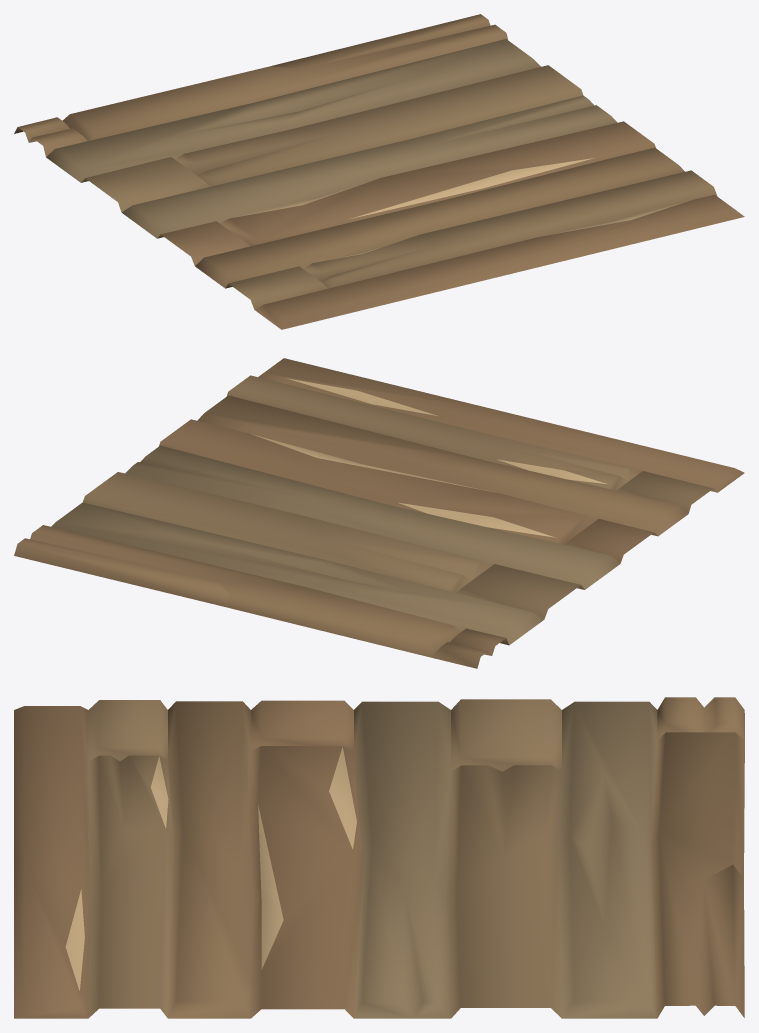
Rendered from rpgpp_ag_floor_02b_3x3.fbx.
3 views of the same model, one above another, from view 1: azimuth 30°, elevation 25°; view 2: azimuth 150°, elevation 25°; view 3: azimuth 270°, elevation 25° (orthographic). The views are drawn at different scales.
Parts seen in each view (by area): view 1: rpgpp_ag_floor_02b_3x3; view 2: rpgpp_ag_floor_02b_3x3; view 3: rpgpp_ag_floor_02b_3x3.
Boxes of the visible parts, <box> form: rpgpp_ag_floor_02b_3x3: <box>14,14,744,329</box>; rpgpp_ag_floor_02b_3x3: <box>14,358,744,668</box>; rpgpp_ag_floor_02b_3x3: <box>14,697,744,1018</box>.
Bounding box in the file's own units: 3 × 0.0595 × 3.
